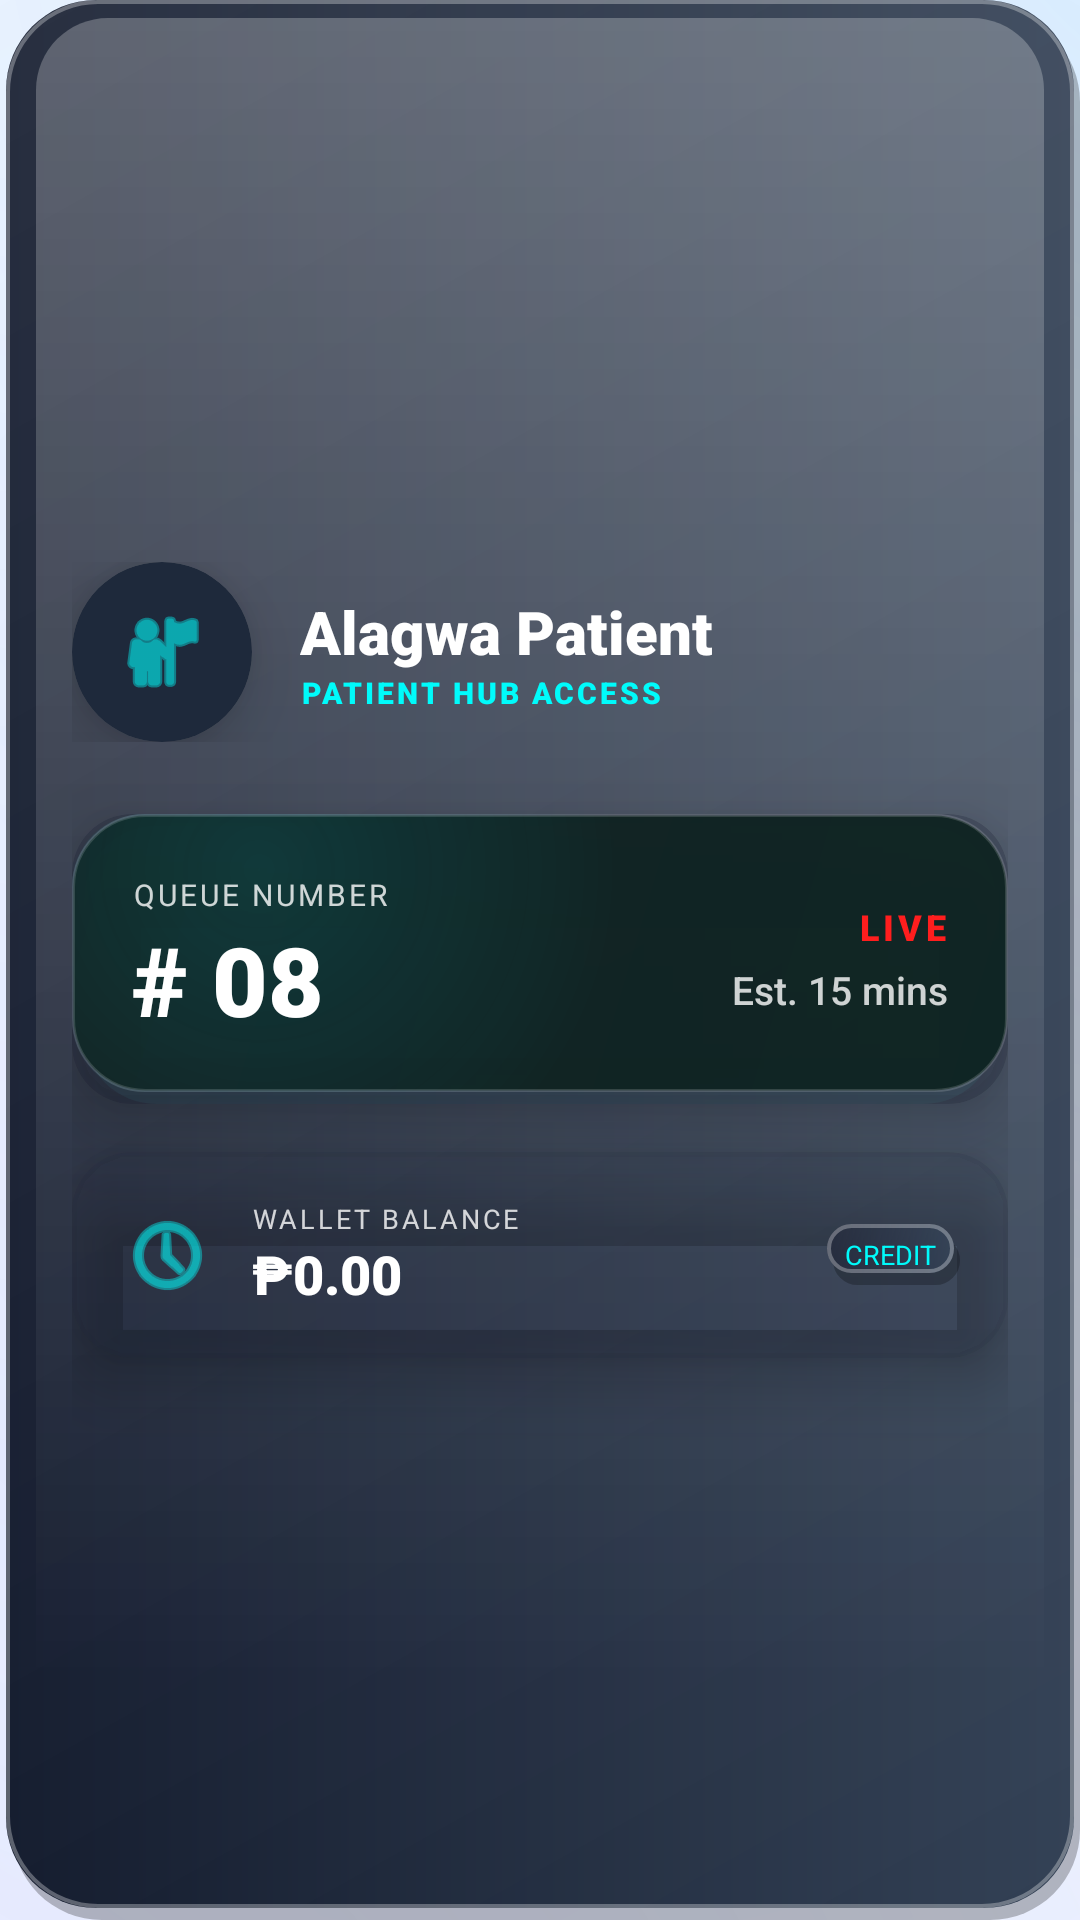

Icons on this 1080px x 1920px Android screen, each with its box as (x1, y1, x2, y2):
recent history: (133, 1221, 202, 1290)
